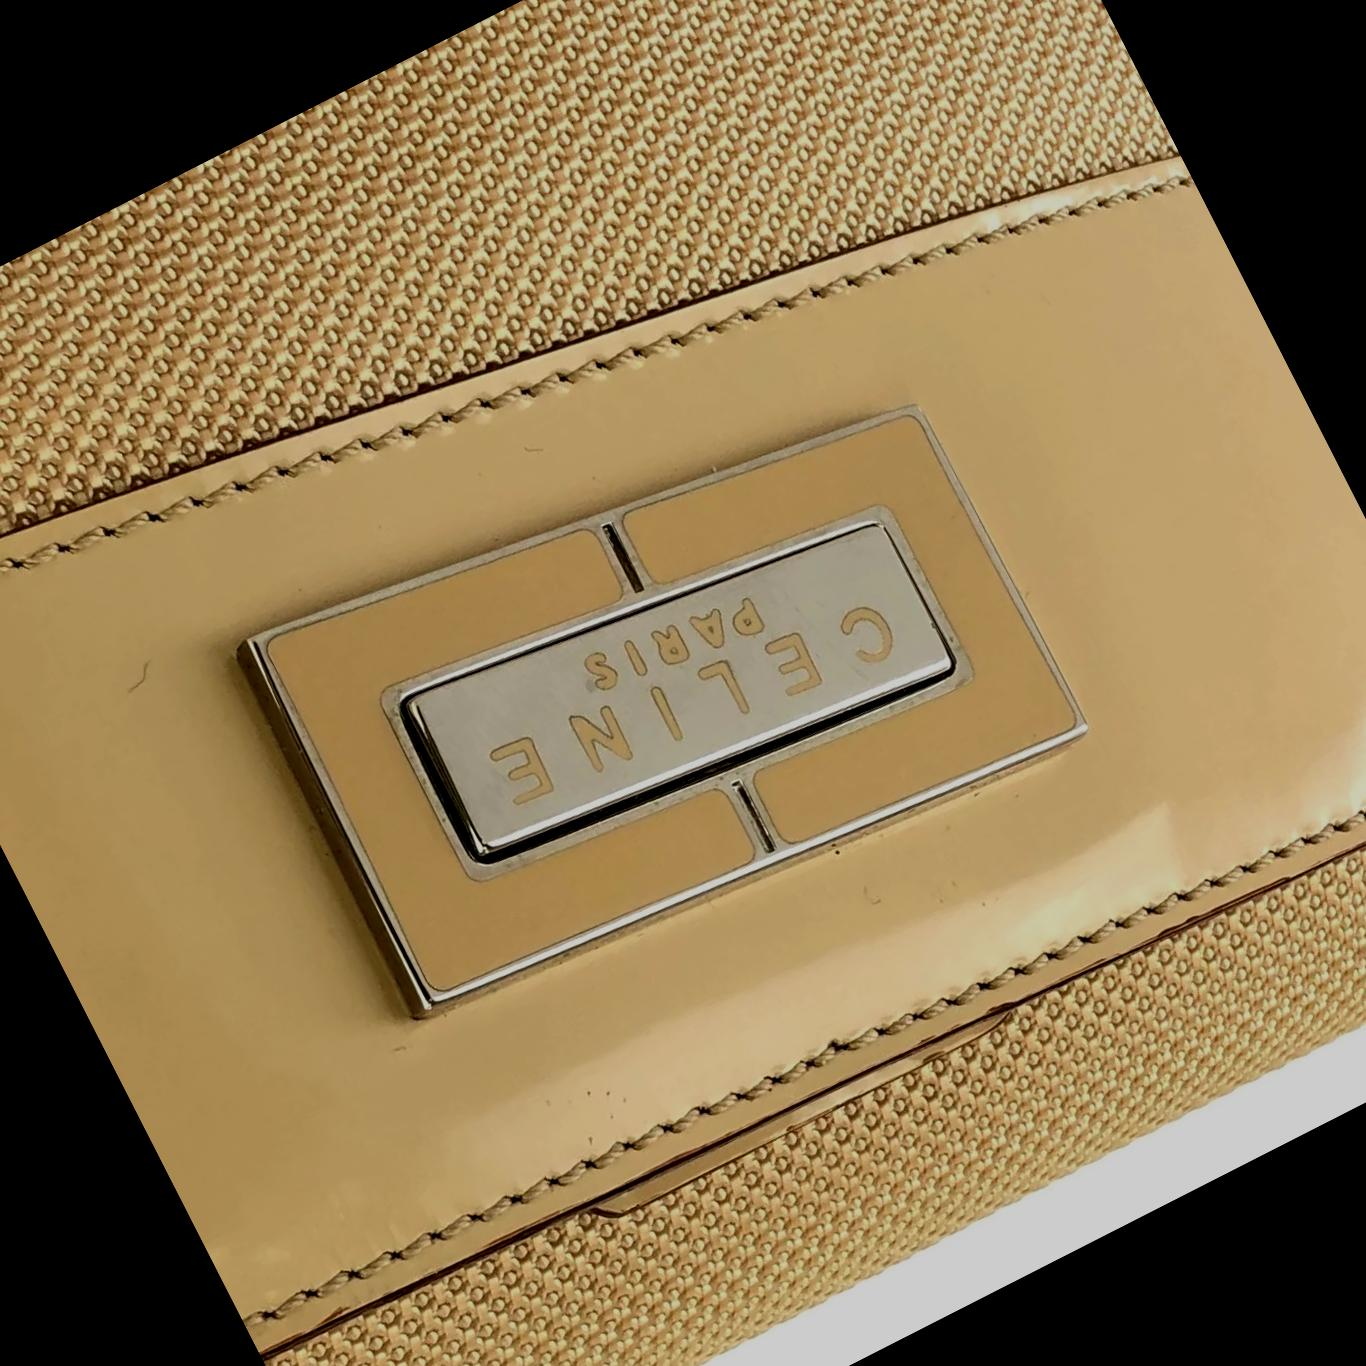CELINE: (484, 560, 903, 843)
